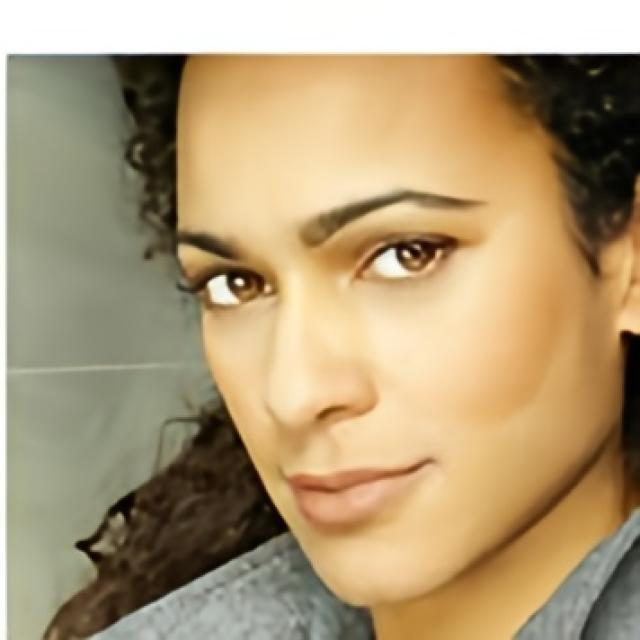content: (172, 57, 622, 608)
